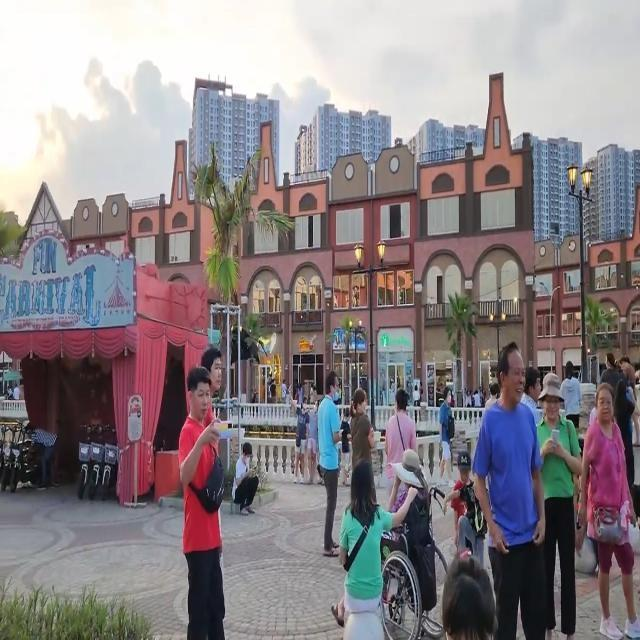hairnet: (328, 378, 341, 400)
